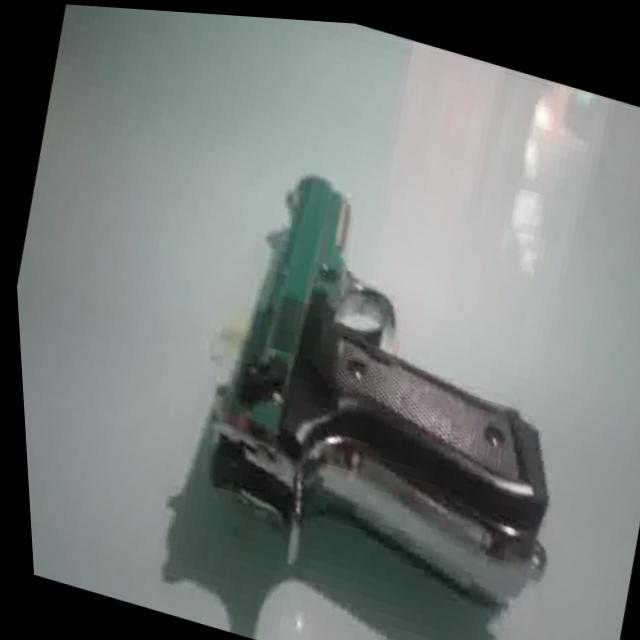weapon: (166, 146, 615, 624)
